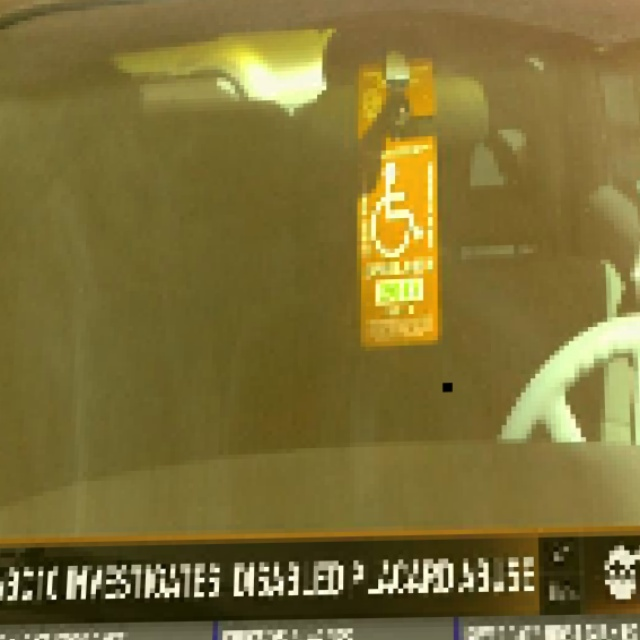ISA: (368, 156, 424, 259)
